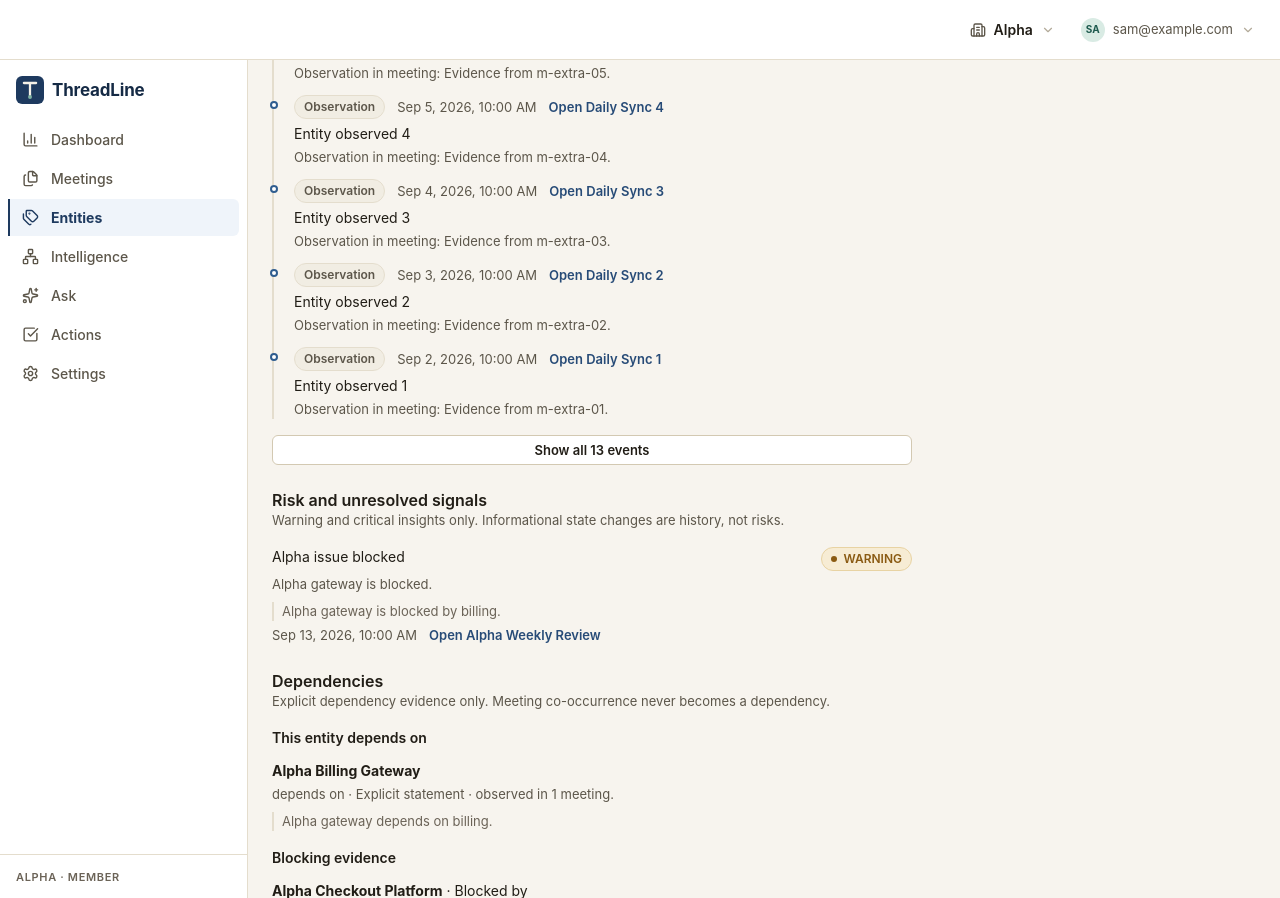
Test: entity detail › expands the unified timeline without losing source links
The width and height of the screenshot is (1280, 898).
(page scrolled)
Step 1. Click the button "Show all 13 events" → (592, 450), box 272,435 -> 912,465
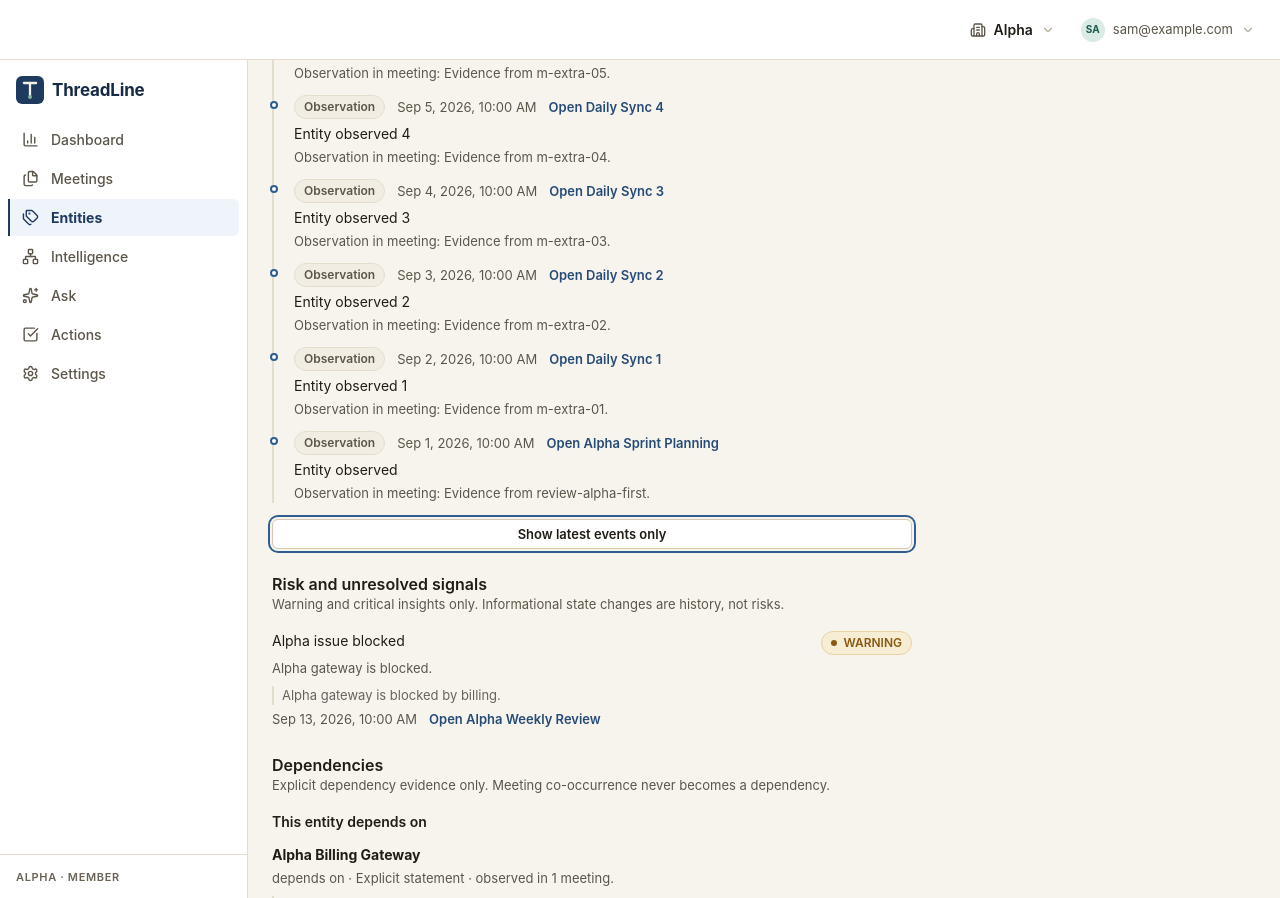
Check: the text "Entity observed" is shown, box 294,461 -> 398,478
Check: the button "Show latest events only" is shown, box 272,519 -> 912,549
